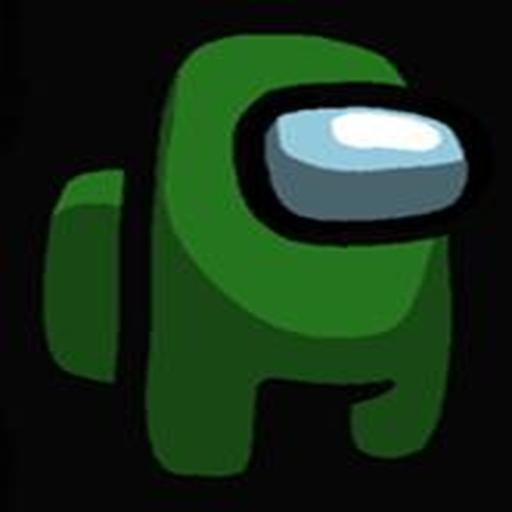Crewmate: (43, 31, 481, 478)
